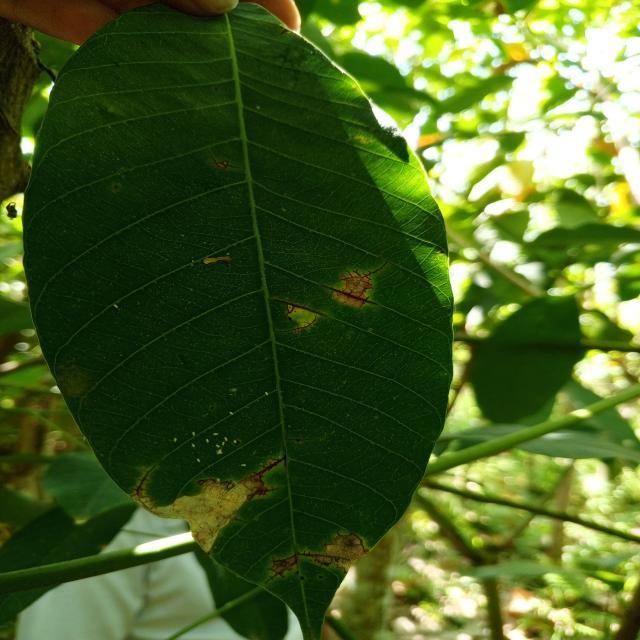Colletotrichum: (226, 483, 234, 489), (198, 479, 205, 485), (247, 494, 253, 500), (300, 576, 304, 580), (288, 317, 292, 321), (295, 571, 299, 574), (319, 576, 323, 578)
Corynespora: (321, 284, 378, 307), (253, 445, 287, 477), (274, 299, 327, 317), (265, 555, 298, 583), (273, 316, 317, 335), (130, 466, 156, 498), (352, 261, 387, 280), (296, 550, 349, 561), (253, 487, 281, 496), (286, 437, 312, 443)
Leaf-Blight: (133, 475, 262, 553), (314, 534, 370, 572)
